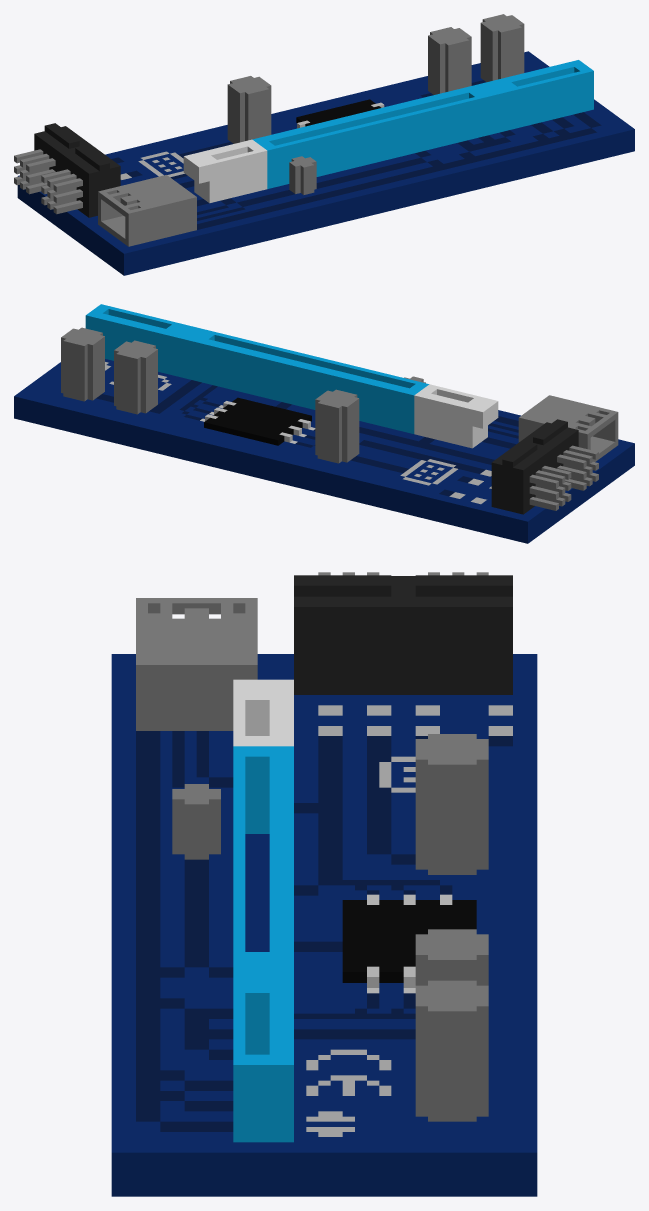
Rendered from MinerGameItems-2-Plate.obj.
3 renders of one model, top to bottom at view 1: azimuth 30°, elevation 25°; view 2: azimuth 150°, elevation 25°; view 3: azimuth 270°, elevation 25°, orthographic. The views are drawn at different scales.
Parts seen in each view (by area): view 1: Plate; view 2: Plate; view 3: Plate.
Boxes of the visible parts, x1,y1,x2,y2 form: Plate: [14, 14, 634, 275]; Plate: [14, 304, 634, 543]; Plate: [111, 572, 537, 1196].
Size of the model in its own units: 10 by 1.4 by 3.5.
1 material, 1 textured.
